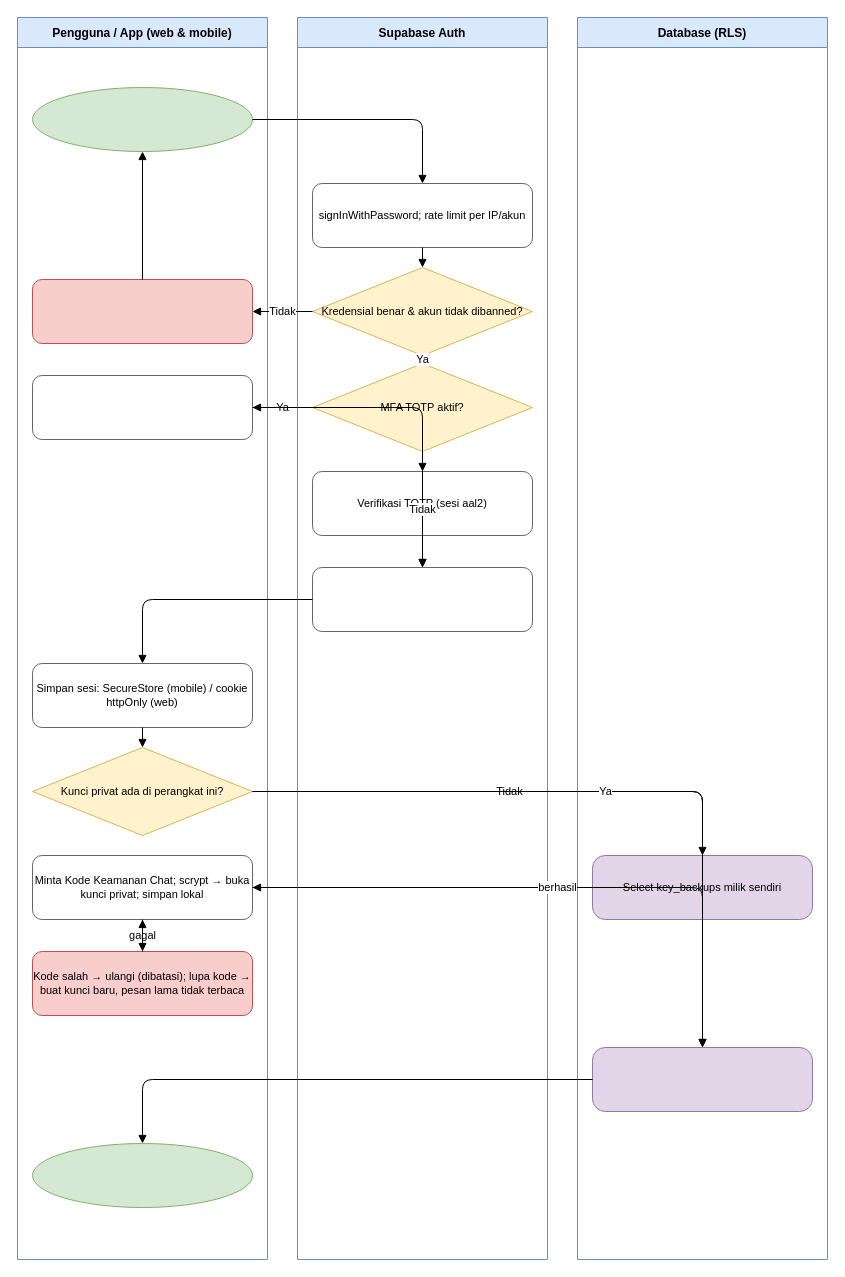
The diagram is 845 pixels wide and 1277 high, and some of its shapes have lost their labels. The shapes that lost their labels are listed below. From the top down, each one's centre as x and y in pixels, then its label:
(142,119): Buka app, isi email & password
(142,311): Galat generik: "email atau password salah"
(142,407): Masukkan kode TOTP
(422,599): Terbitkan access token (JWT singkat) + refresh token (rotasi)
(702,1079): system_logs: login_success; upsert push_tokens
(142,1175): Ambil percakapan + pesan sejak seq terakhir, dekripsi lokal
